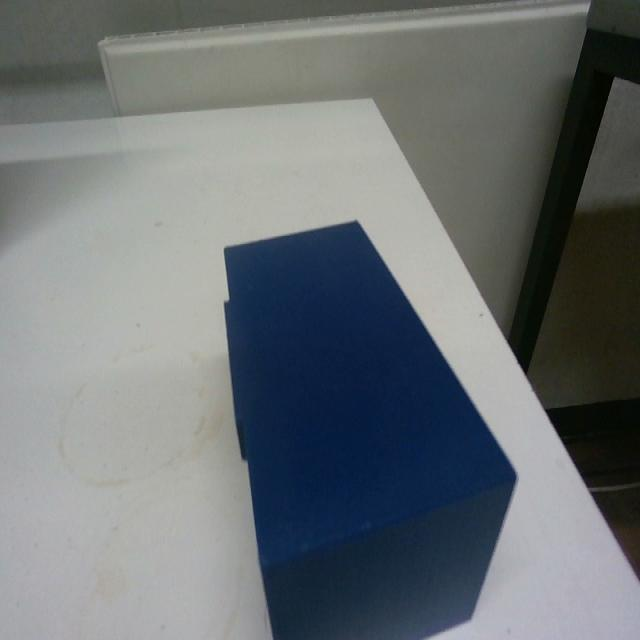Blue Cuboid: (220, 215, 519, 637)
